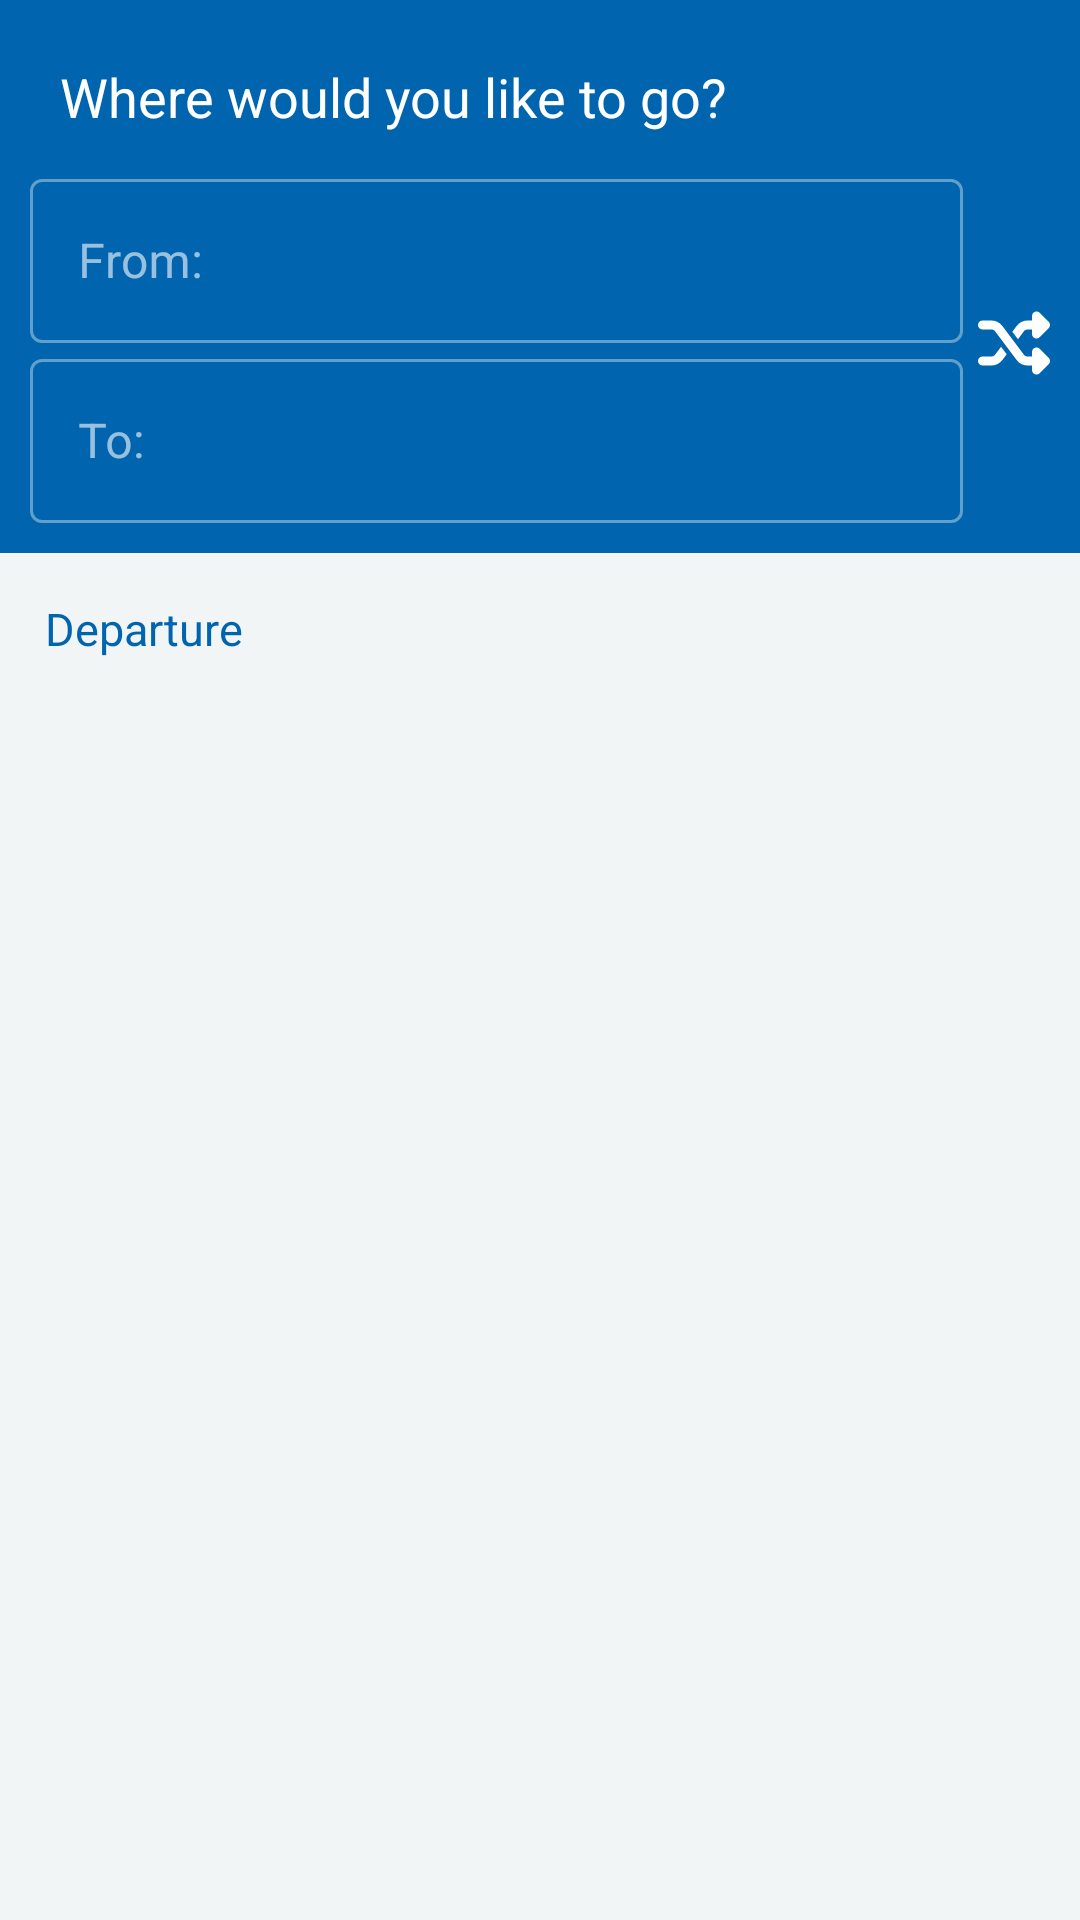

Icon bounding boxes for this 1080px×1920px phone screenshot, format Rect(x1, y1, x2, y2):
shuffle: Rect(978, 311, 1050, 375)
